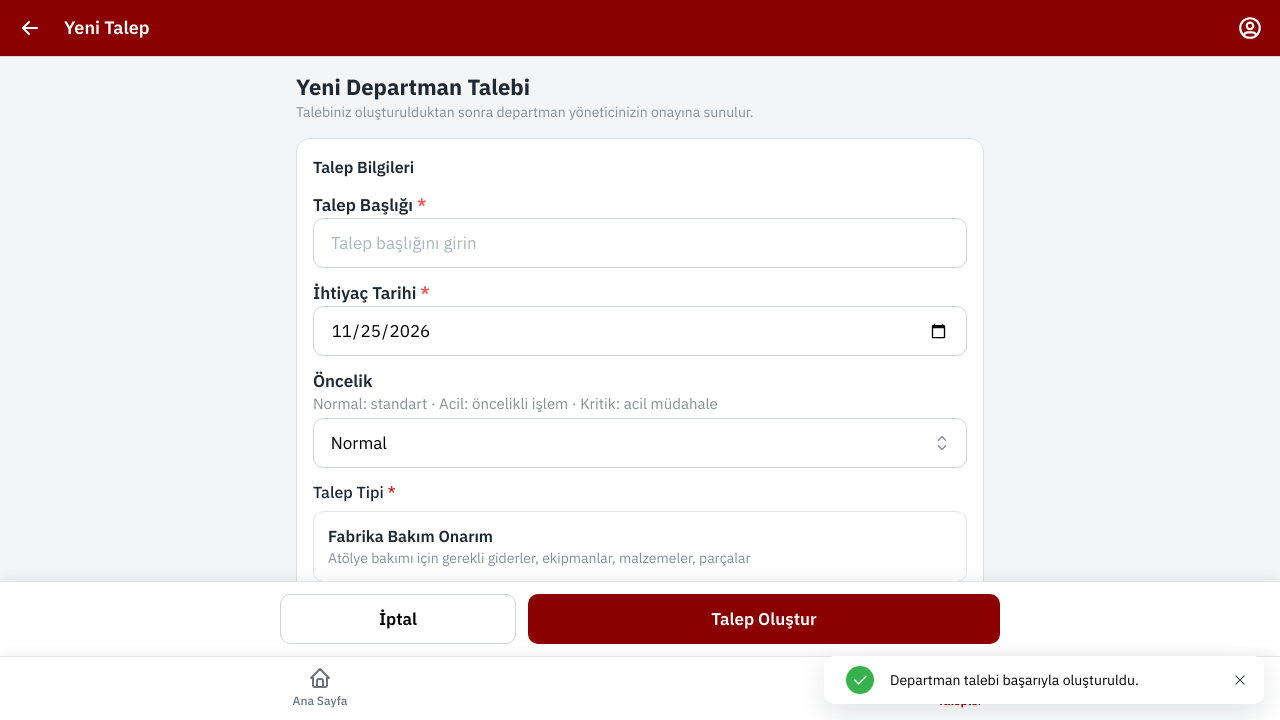
create department request › refuses an item without a name
Type "X" into the field labelled "Talep Başlığı *" at (640, 243), box x1=313 y1=218 x2=967 y2=268
(page scrolled)
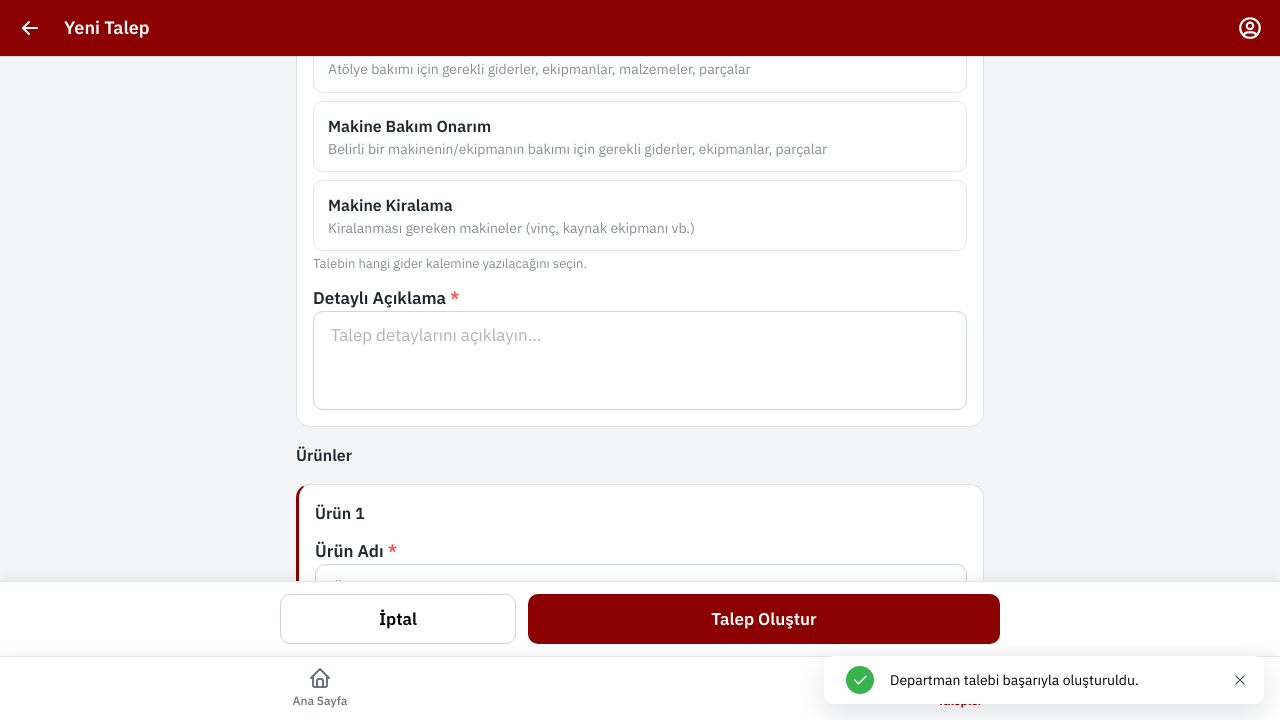
Type "Y" into the text box labelled "Detaylı Açıklama *" at (640, 361), box x1=313 y1=311 x2=967 y2=410
(page scrolled)
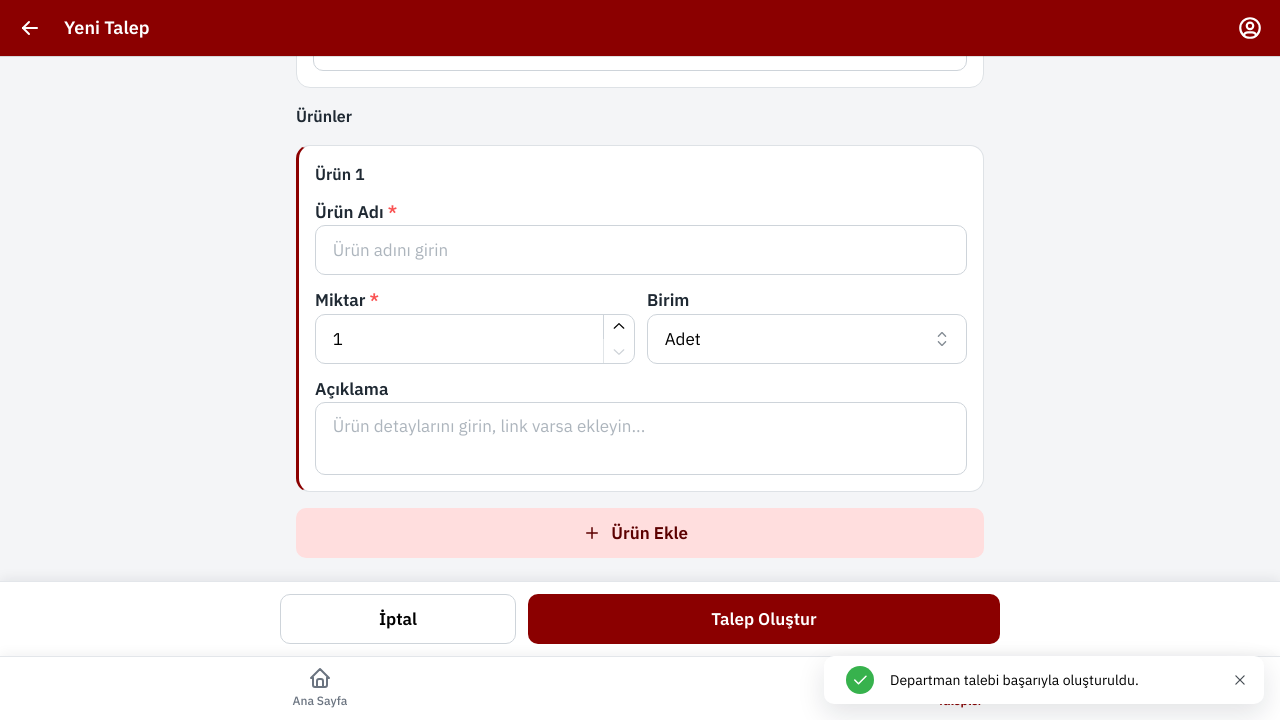
Click the button "Ürün Ekle" at (640, 533), box x1=296 y1=508 x2=984 y2=558
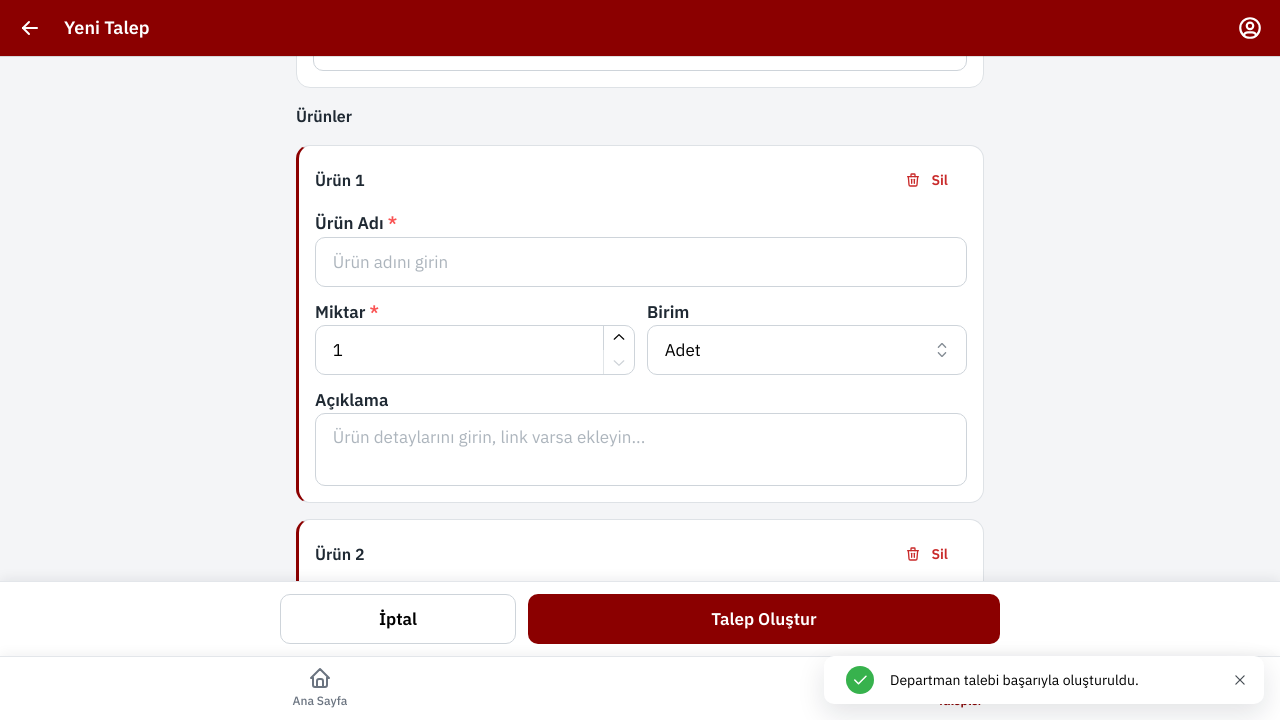
expect the text "Ürün 2" is shown: met, box x1=315 y1=542 x2=364 y2=567
Click the button "Talep Oluştur" at (764, 619), box x1=528 y1=594 x2=1000 y2=644
(page scrolled)
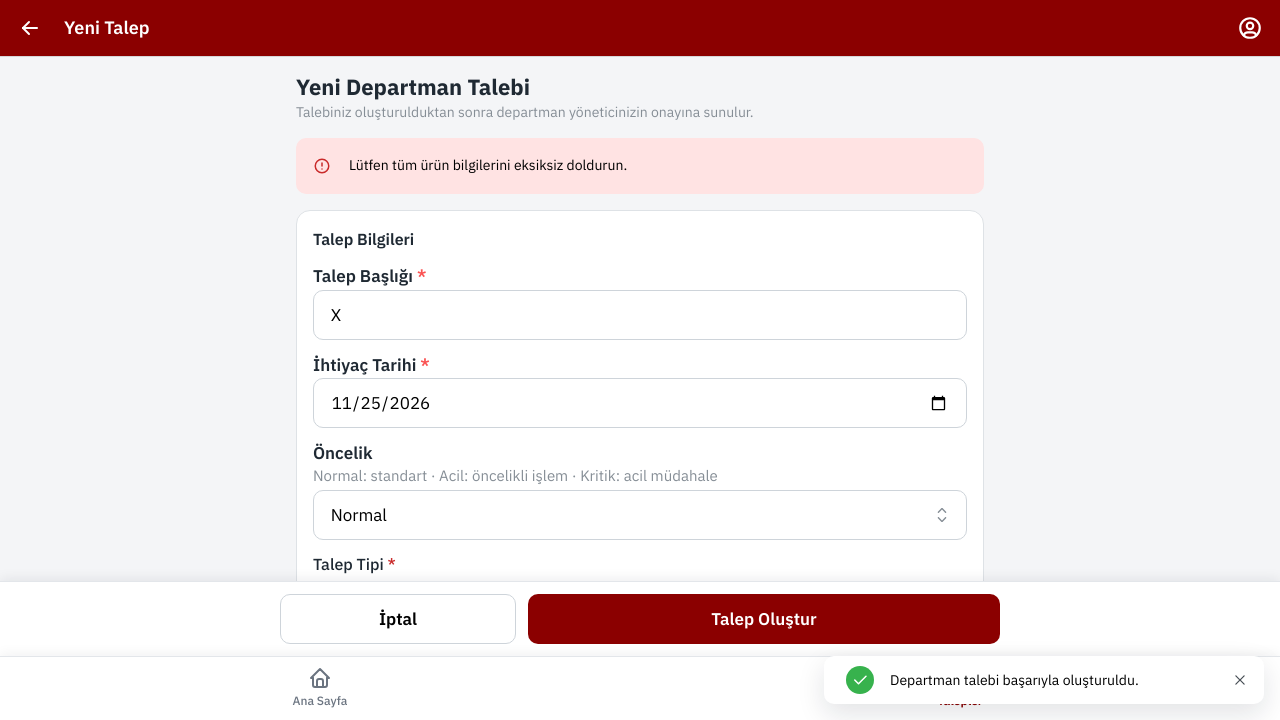
expect the text "Lütfen tüm ürün bilgilerini eksiksiz doldurun." is shown: met, box x1=349 y1=156 x2=627 y2=174
